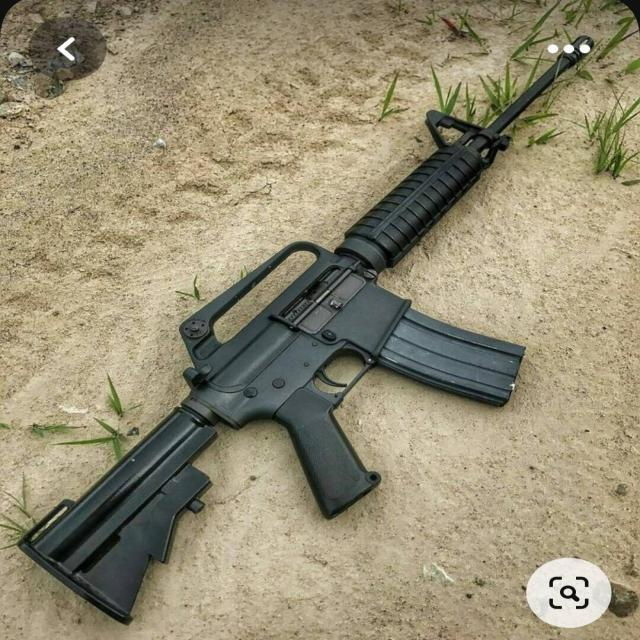m16: (144, 11, 593, 548)
